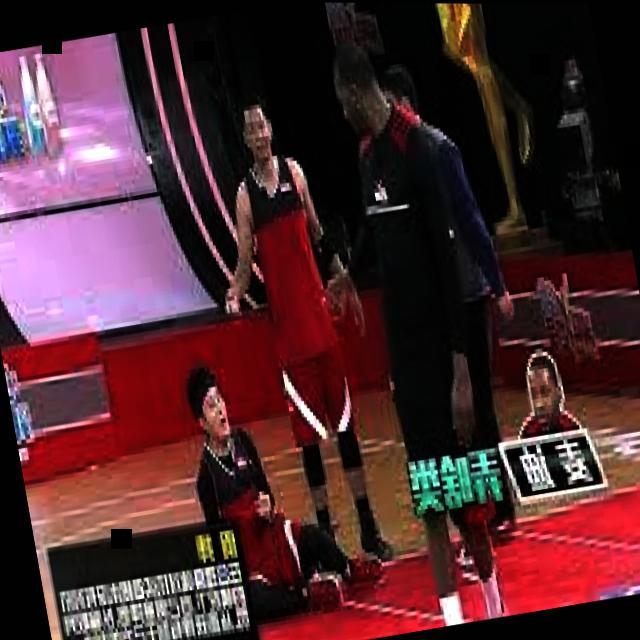Fall-Detected: (158, 313, 394, 629)
